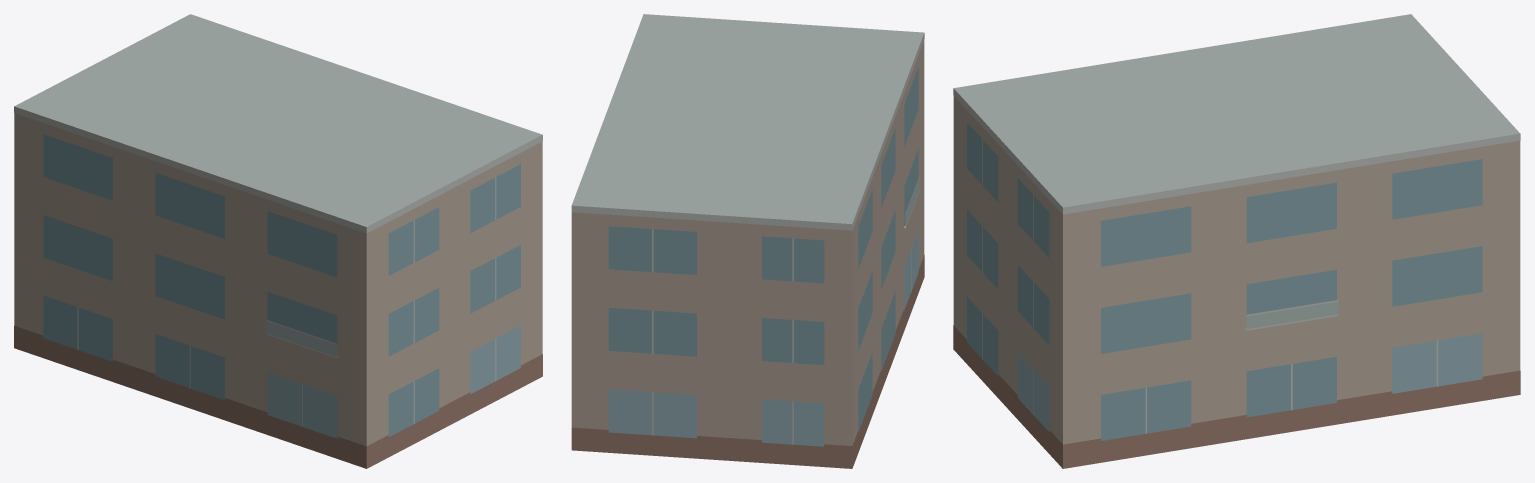
The model's file is survey-upis-32697642.glb.
3 renders of one model, left to right at view 1: azimuth 30°, elevation 25°; view 2: azimuth 150°, elevation 25°; view 3: azimuth 270°, elevation 25°, orthographic. The views are drawn at different scales.
Parts seen in each view (by area): view 1: survey-upis-32697642.tmp; view 2: survey-upis-32697642.tmp; view 3: survey-upis-32697642.tmp.
Boxes of the visible parts, x1,y1,x2,y2 form: survey-upis-32697642.tmp: (14,14,542,468); survey-upis-32697642.tmp: (571,14,924,468); survey-upis-32697642.tmp: (953,14,1520,468).
Size of the model in its own units: 14.56 by 9.15 by 18.01.
